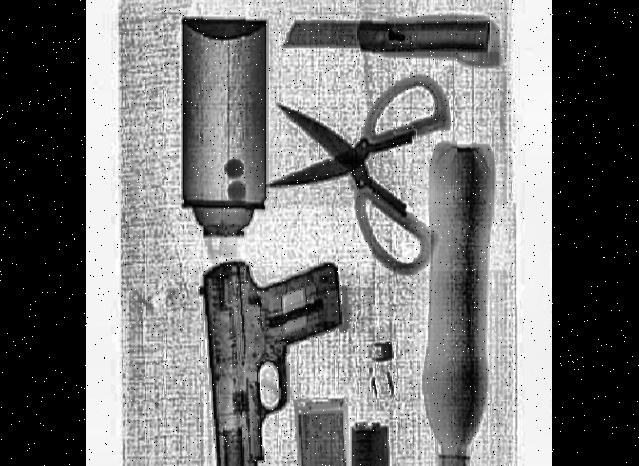Gun: (199, 258, 343, 466)
Knife: (264, 70, 449, 279)
